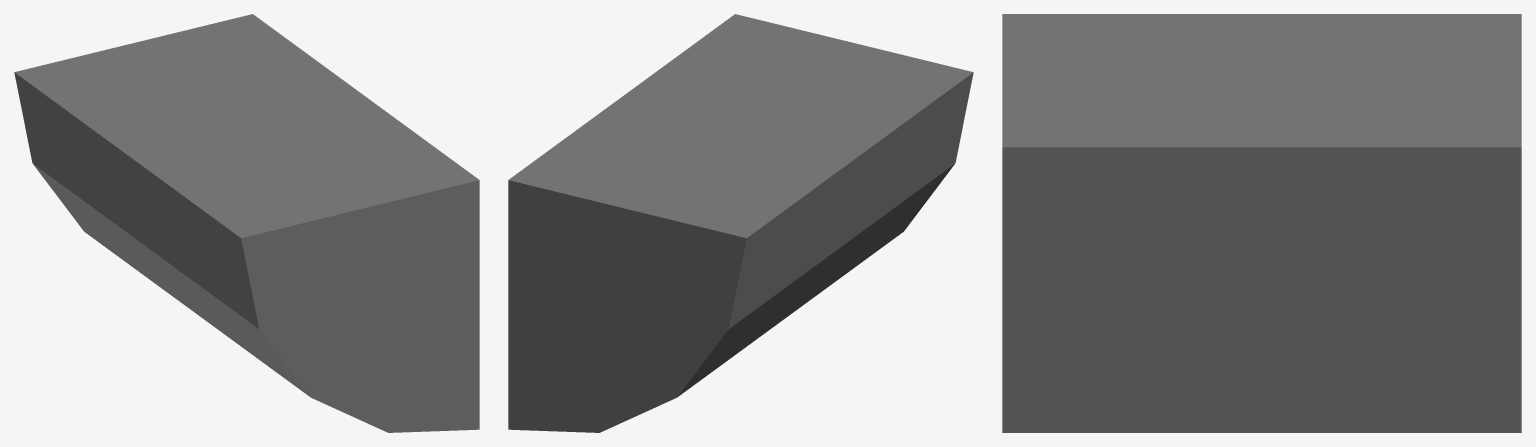
File: Duct_Up_Down.fbx
3 views of the same model, side by side, from view 1: azimuth 30°, elevation 25°; view 2: azimuth 150°, elevation 25°; view 3: azimuth 270°, elevation 25° (orthographic). The views are drawn at different scales.
Visible parts, largest first — view 1: up down vent; view 2: up down vent; view 3: up down vent.
Part boxes in pixels (x1,y1,x2,y2): up down vent: (14, 14, 479, 432); up down vent: (508, 14, 973, 432); up down vent: (1002, 14, 1521, 432).
Bounding box in the file's own units: 62.68 × 62.68 × 103.
